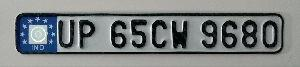0: (260, 16, 281, 51)
5: (130, 17, 149, 51)
6: (109, 17, 130, 51), (221, 19, 239, 50)
8: (240, 15, 260, 51)
9: (198, 17, 218, 49)
C: (149, 16, 171, 50)
P: (77, 15, 97, 49)
U: (57, 18, 75, 50)
W: (170, 18, 191, 51)
